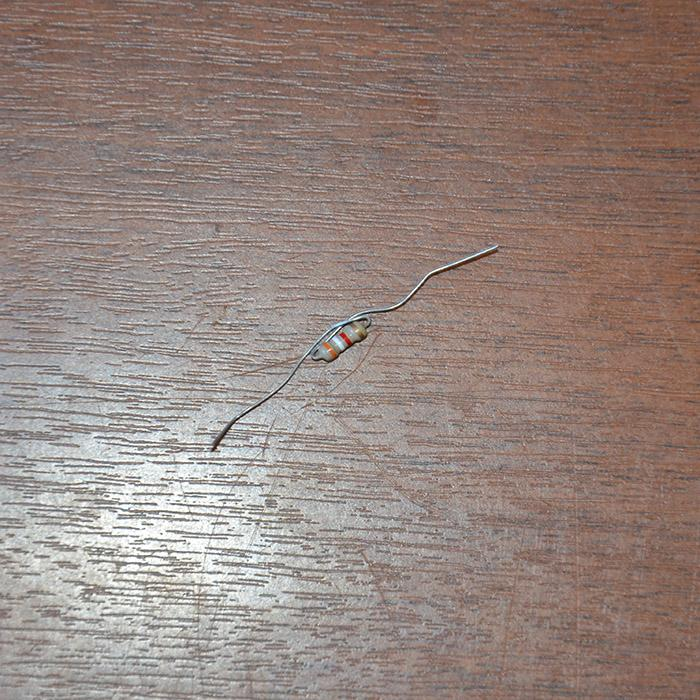resistor: (312, 317, 370, 362)
